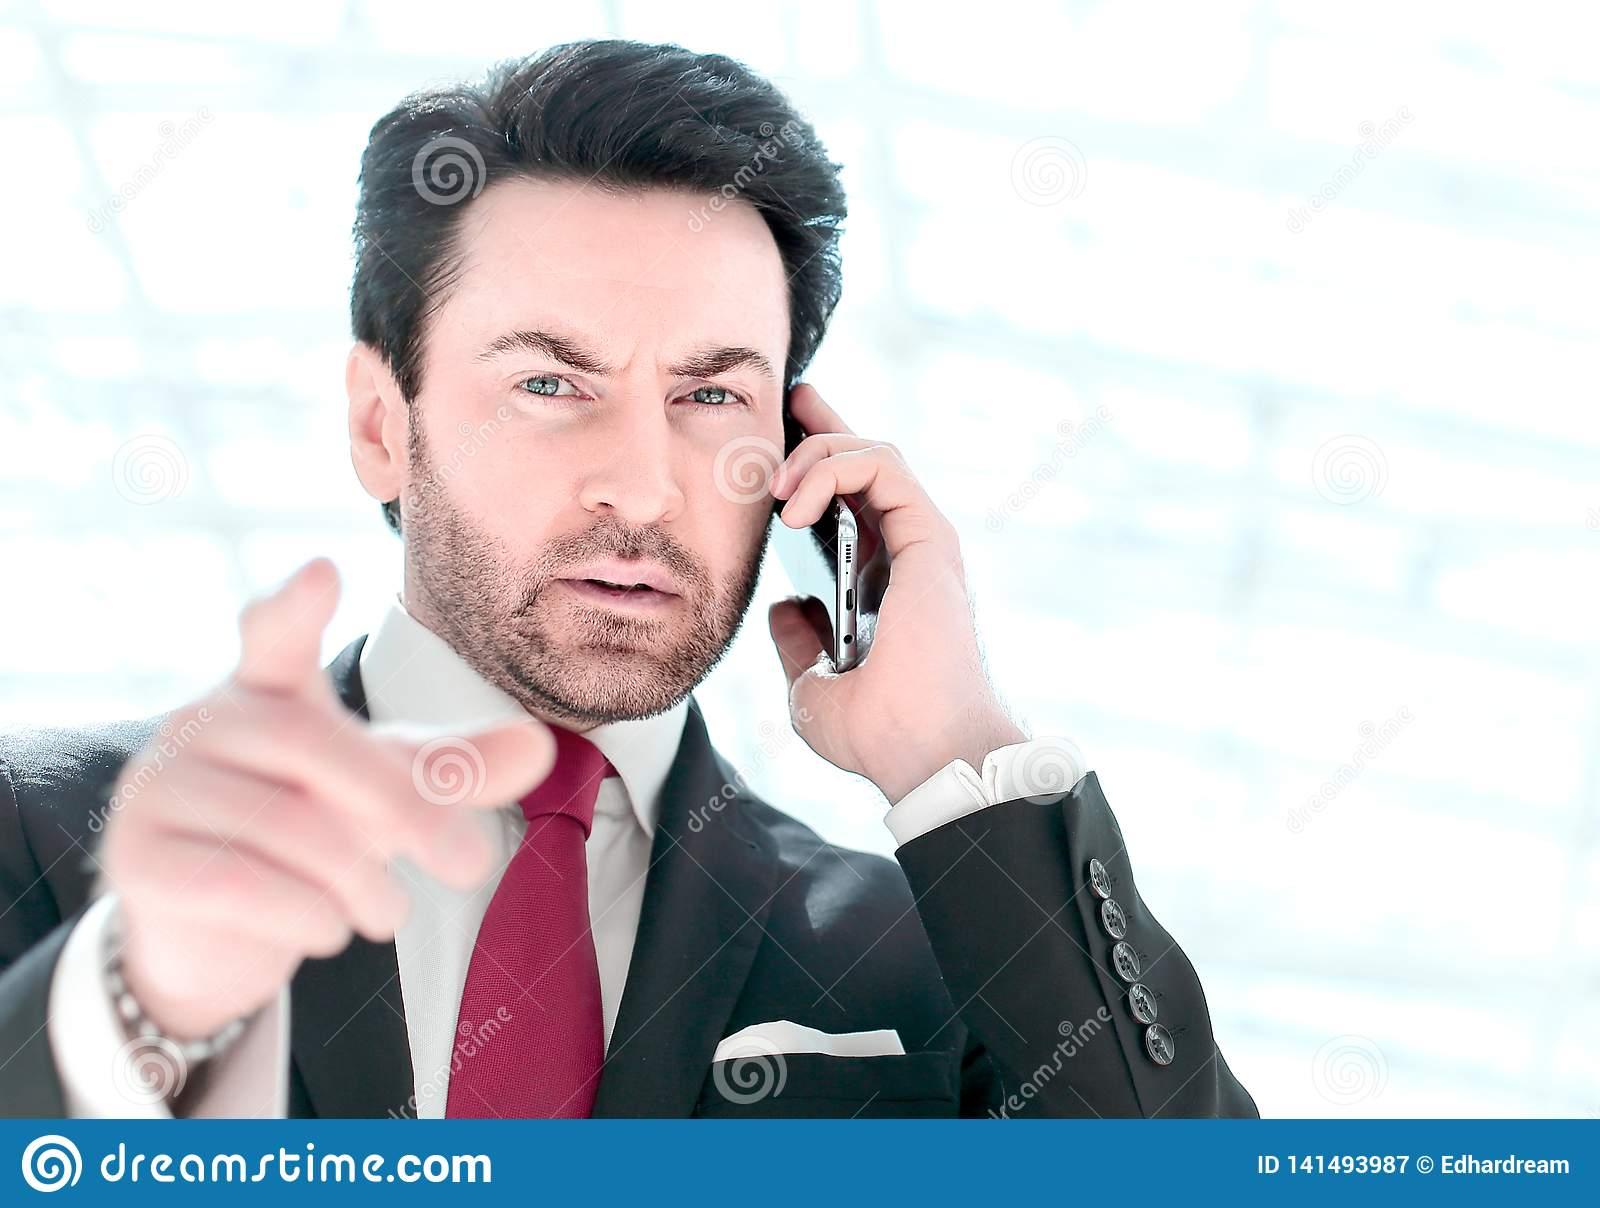phone: (760, 433, 873, 693)
talk: (463, 322, 999, 798)
